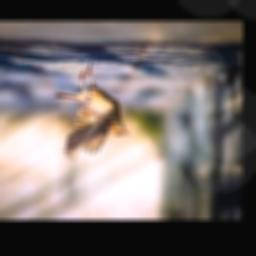Sparrow: (55, 59, 131, 162)
